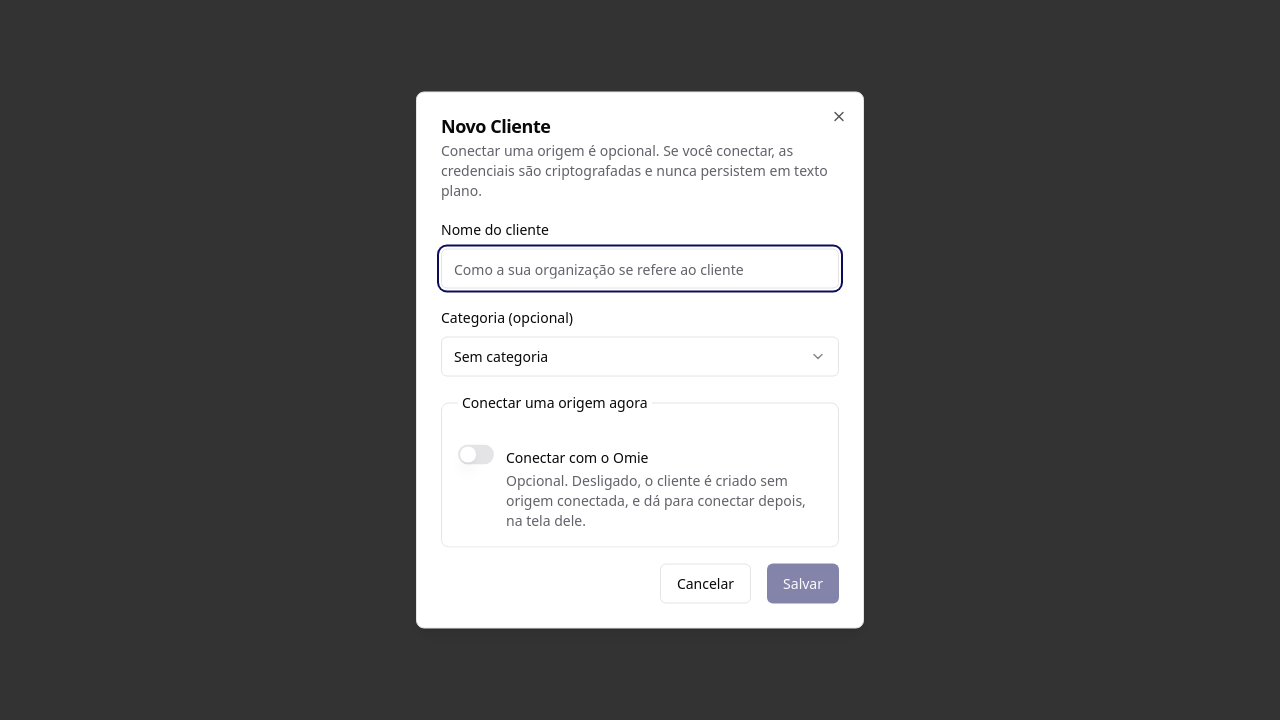
Test: Novo cliente — SEM origem (R4) › Salvar habilita só com o nome, sem nenhum teste de conexão
Expected: the button "Salvar" is disabled, [767,564,839,604]
In the field labelled "Nome do cliente": (640, 268) [441,248,839,288], type "Padaria do Bairro"
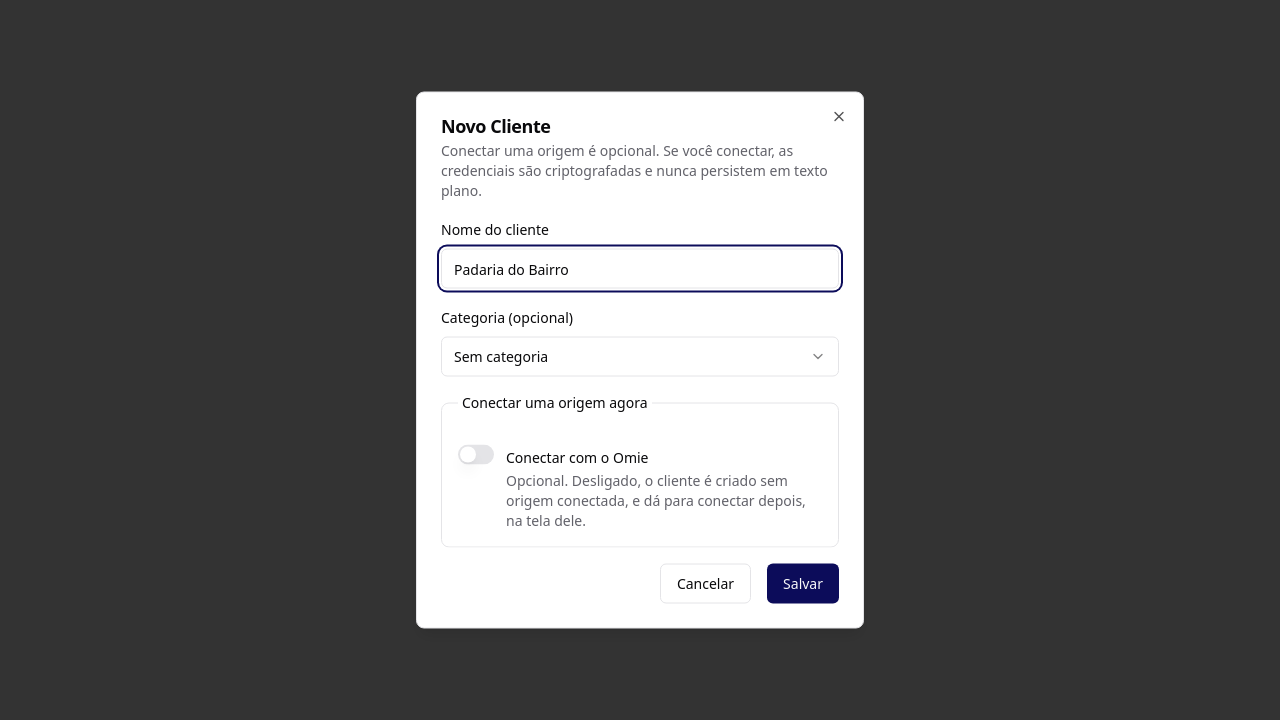
Result: the button "Salvar" is enabled at [767,564,839,604]
